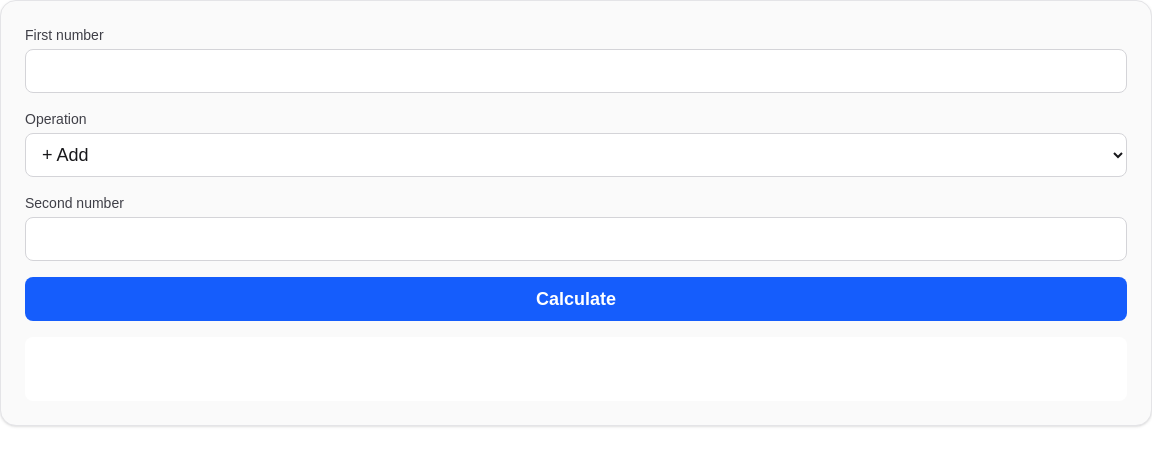
Test: Calculator › entering 10 ÷ 4 and submitting shows 2.5
Type "10" into the field labelled "First number".
click(576, 71); type("10")  # box [25, 49, 1127, 93]
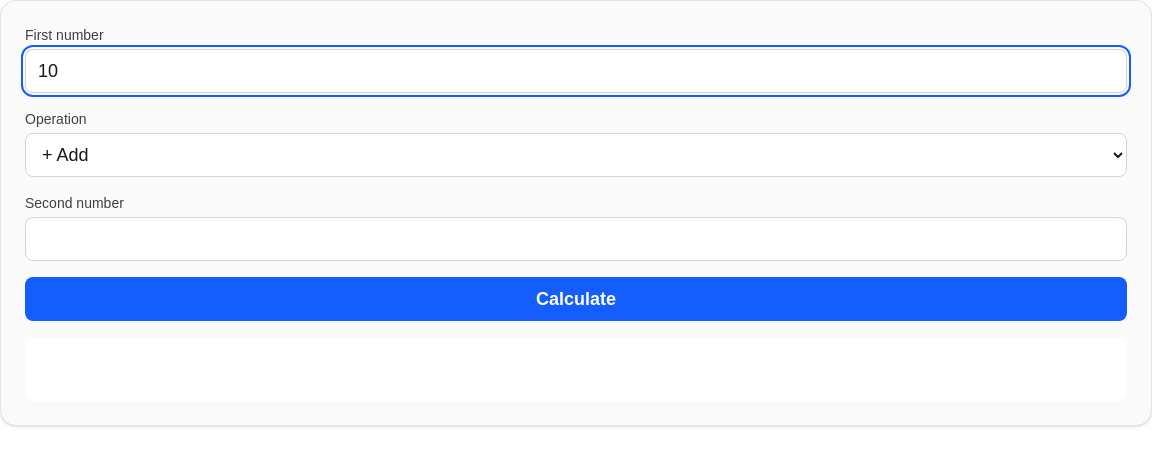
Select "÷ Divide" in the dropdown labelled "Operation" at (576, 155), box [25, 133, 1127, 177]
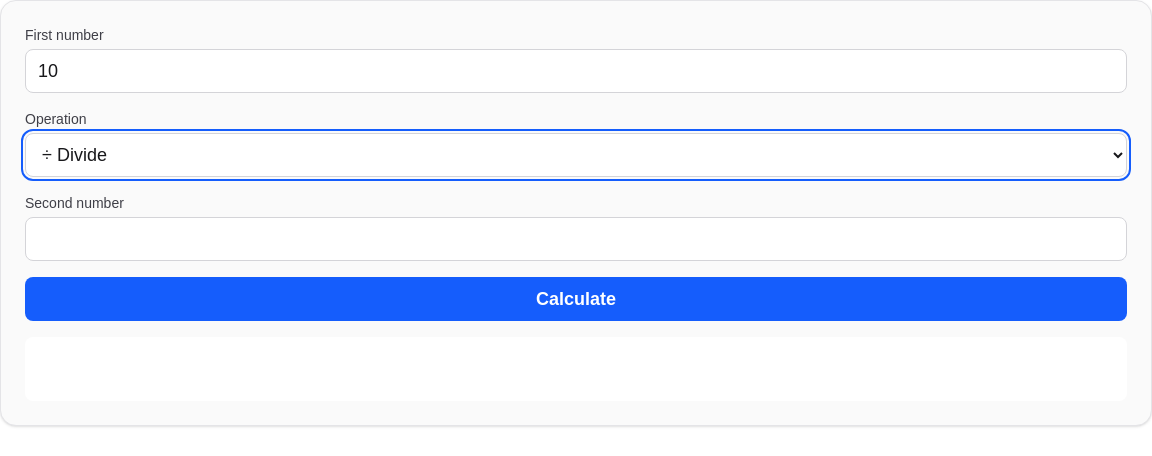
Type "4" into the field labelled "Second number".
click(576, 239); type("4")  # box [25, 217, 1127, 261]
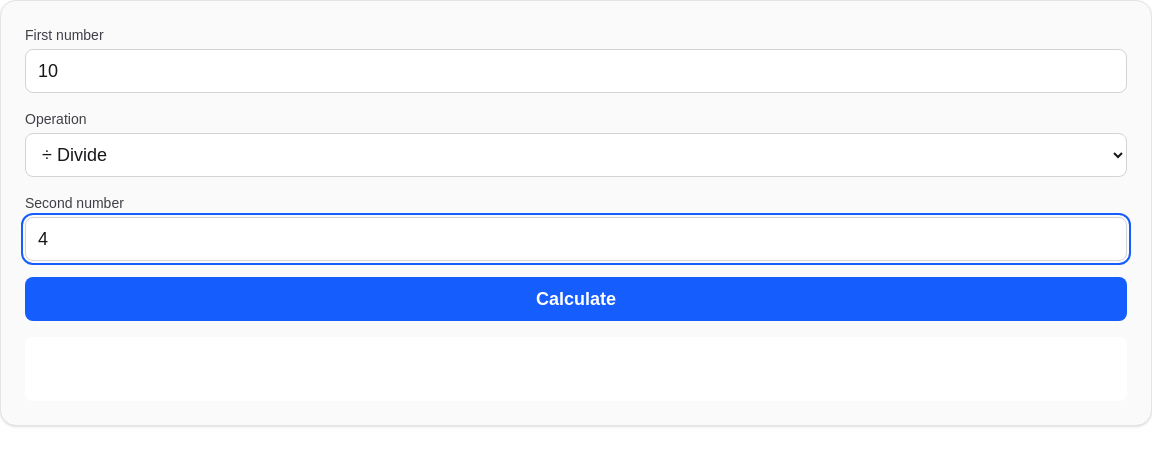
Click the button "Calculate".
click(576, 299)  # box [25, 277, 1127, 321]
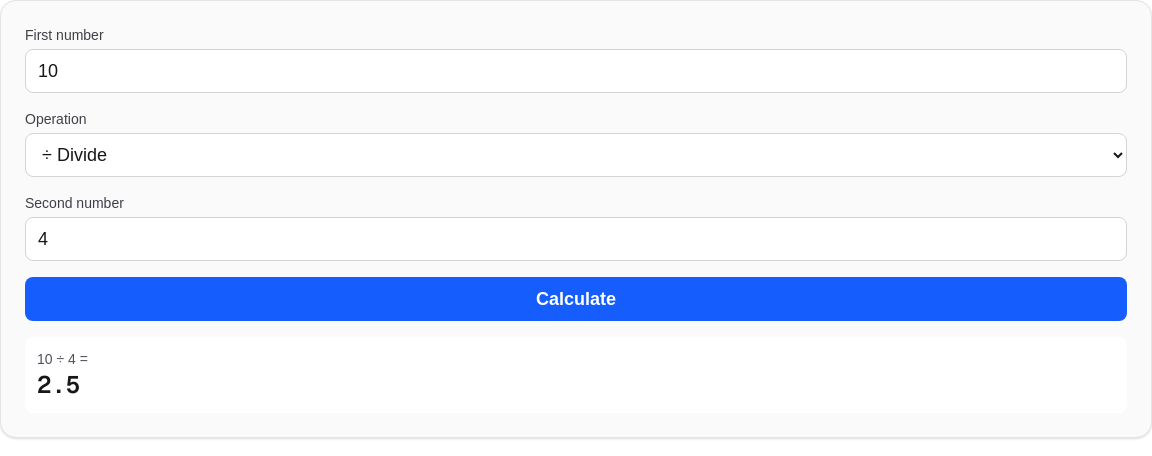
Expected: the message reads "10 ÷ 4 = 2.5", [25, 337, 1127, 413]
